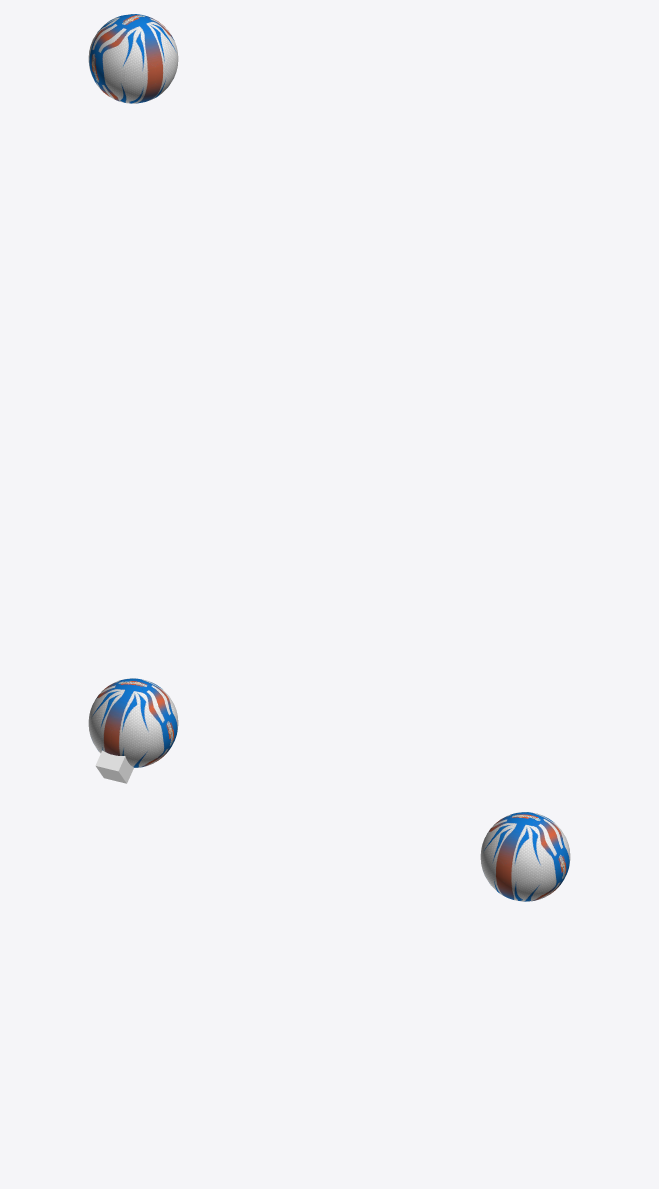
Rendered from Ball.glb.
3 views of the same model, one above another, from view 1: azimuth 30°, elevation 25°; view 2: azimuth 150°, elevation 25°; view 3: azimuth 330°, elevation 25° (orthographic).
Parts seen in each view (by area): view 1: ball; view 2: ball, Dummy_kick_effect; view 3: ball.
Boxes of the visible parts, bbox=[...] form: ball: bbox=[88, 14, 178, 103]; ball: bbox=[88, 678, 178, 767]; Dummy_kick_effect: bbox=[95, 750, 133, 783]; ball: bbox=[480, 812, 570, 901].
Size of what is drawn, in the model's own units: 1 by 0.3529 by 3.17.
3 materials, 1 textured.
